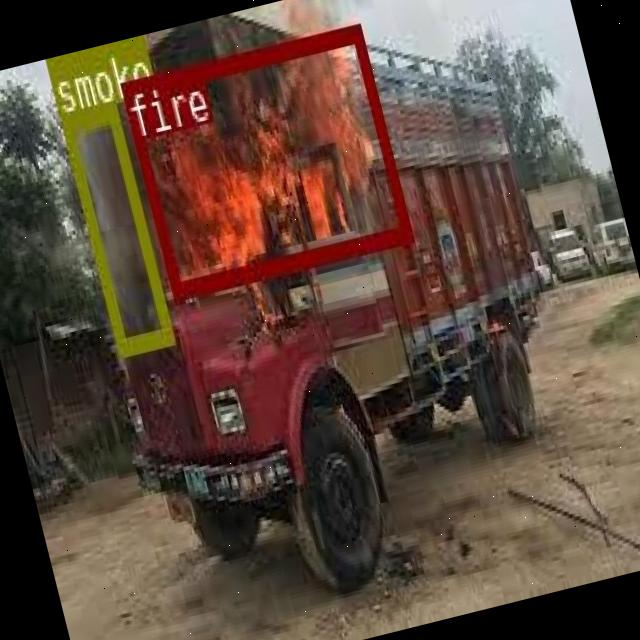fire: (118, 22, 410, 295)
smoke: (58, 102, 172, 354)
